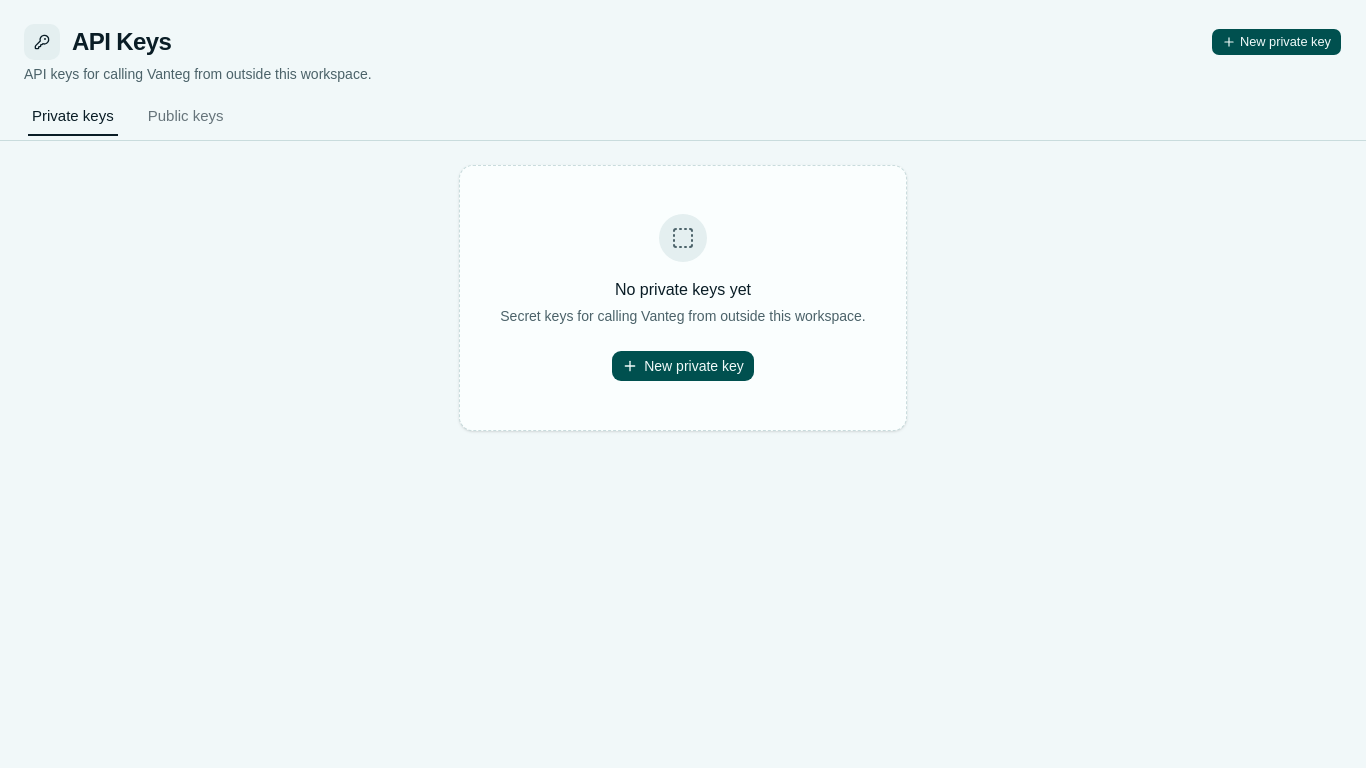
it: ApiKeysPage › opens a name prompt for a public key
Click the tab "Public keys". click: (186, 116)
box: [143,95,229,137]
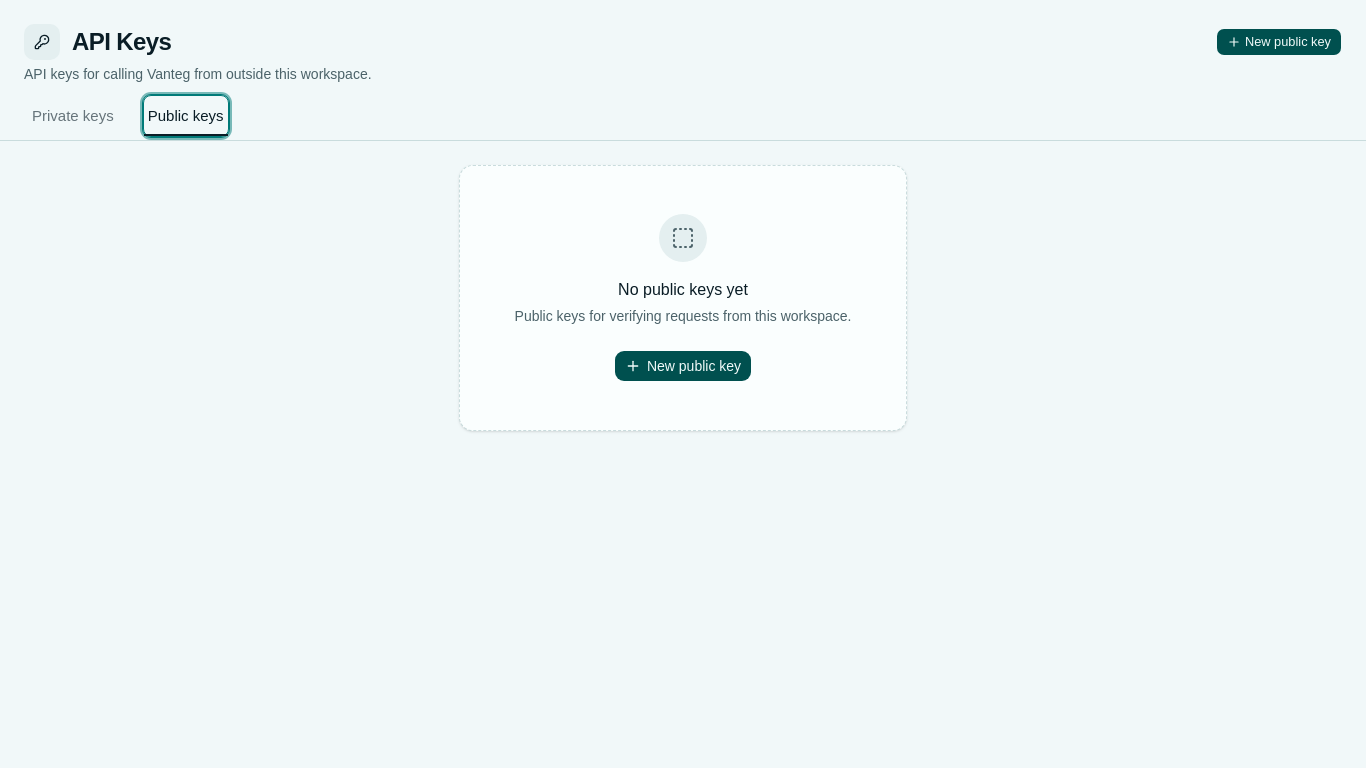
Result: the heading "No public keys yet" is shown at [618,278,748,302]
Click the 1st button "New public key". click: (1279, 42)
box: [1216,28,1342,56]
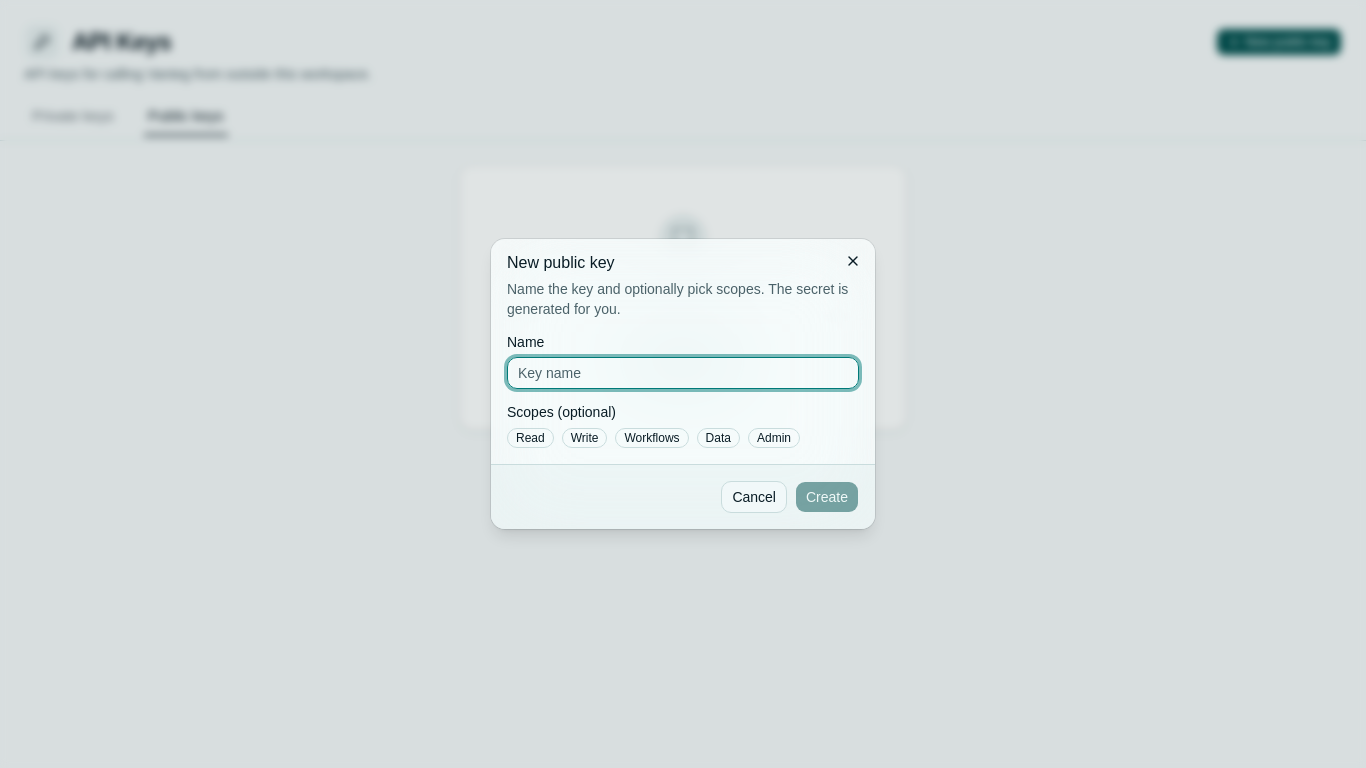
Result: the dialog "New public key" is shown at [491,239,875,529]
Result: the field with placeholder "Key name" is shown at [507,357,859,389]
Result: the element named "Scopes" is shown at [507,427,800,448]
